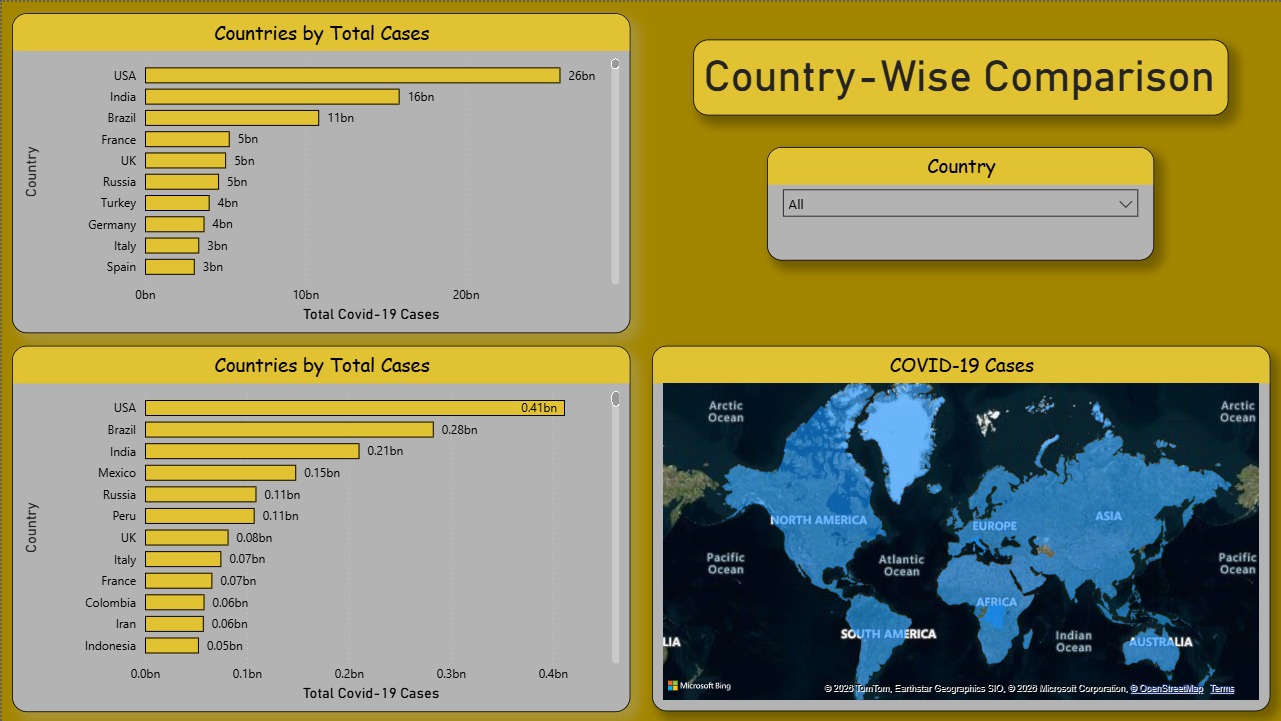

The page's visual inventory and layout, read from the dashboard file:
{"tool":"powerbi","page":{"name":"Country-Wise Comparison","canvas":[1280,720],"ordinal":2},"visuals":[{"type":"filledMap","title":"COVID-19 Cases","fields":{"Category":["worldometer_coronavirus_daily_data.country"]},"box":[650.6,343.3,618.2,365.7],"z":0},{"type":"slicer","title":"Country","fields":{"Values":["worldometer_coronavirus_daily_data.country"]},"box":[765.6,144.8,387.1,113.3],"z":1000},{"type":"textbox","box":[691.6,37.3,534.9,75.9],"z":2000},{"type":"barChart","title":"Countries by Total Cases","fields":{"Category":["worldometer_coronavirus_daily_data.country"],"Y":["Sum(worldometer_coronavirus_daily_data.cumulative_total_cases)"]},"box":[10,11.2,618.2,319.7],"z":3000},{"type":"barChart","title":"Countries by Total Cases","fields":{"Category":["worldometer_coronavirus_daily_data.country"],"Y":["Sum(worldometer_coronavirus_daily_data.cumulative_total_deaths)"]},"box":[10,343.8,618.8,366.2],"z":4000}]}

Visuals, with their boxes in screenshot pixels (x1, y1, x2, y2), scaled from the page's 1280x720 canvas onto the 1281x721 screenshot:
"COVID-19 Cases" filledMap: detection(651, 344, 1270, 710)
"Country" slicer: detection(766, 145, 1154, 258)
textbox: detection(692, 37, 1227, 113)
"Countries by Total Cases" barChart: detection(10, 11, 629, 331)
"Countries by Total Cases" barChart: detection(10, 344, 629, 711)
